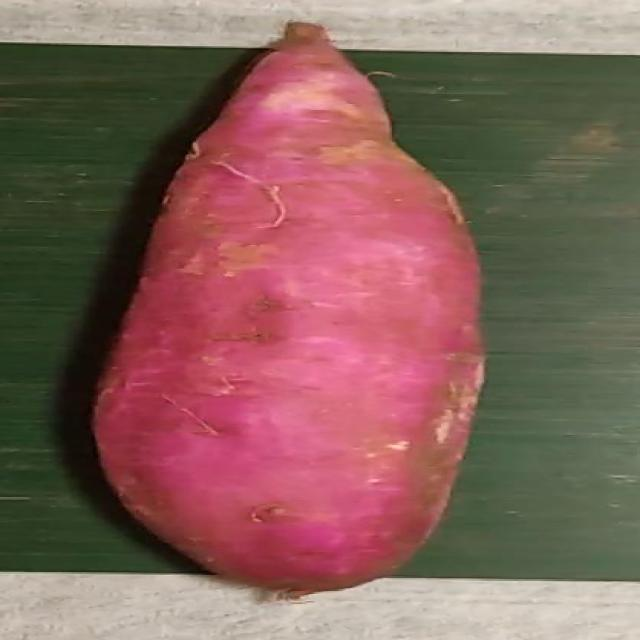Sweet Potato: (87, 23, 484, 589)
